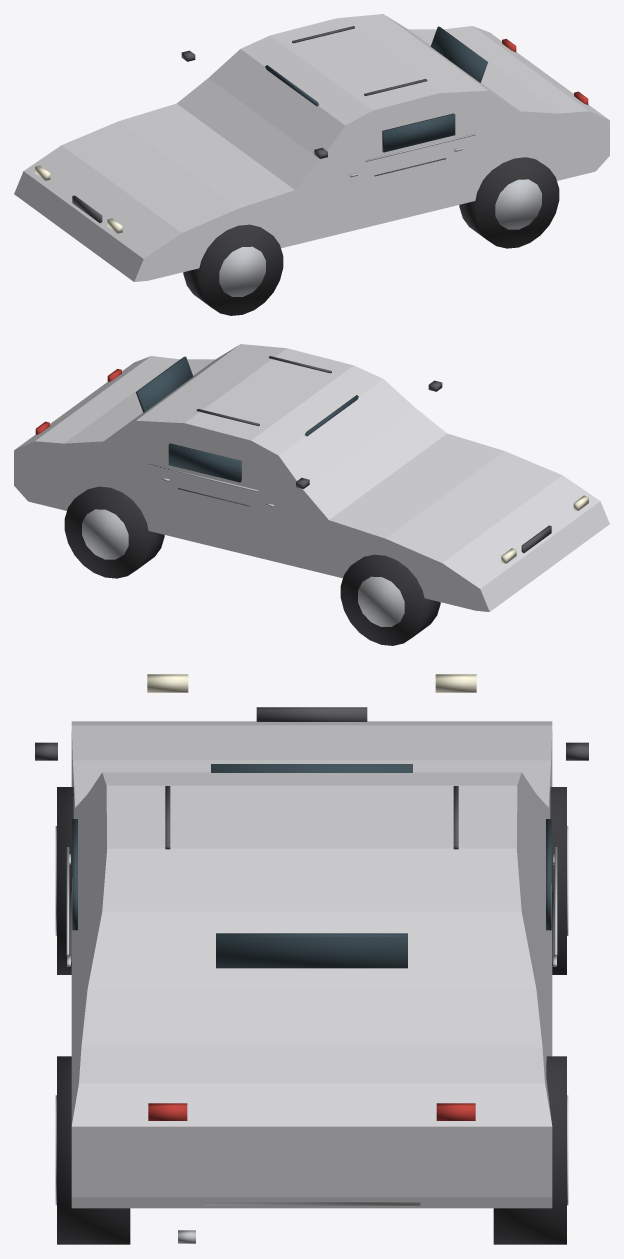
File: police.glb
3 renders of one model, top to bottom at view 1: azimuth 30°, elevation 25°; view 2: azimuth 150°, elevation 25°; view 3: azimuth 270°, elevation 25°, orthographic. The views are drawn at different scales.
Parts seen in each view (by area): view 1: body_main, wheel_rear_r, wheel_front_r, trim_rim__rear_r, trim_rim__front_r, glass_side_r, glass_rear; view 2: body_main, wheel_rear_l, wheel_front_l, trim_rim__rear_l, trim_rim__front_l, glass_side_l, glass_rear; view 3: body_main, glass_rear, wheel_rear_l, wheel_rear_r, wheel_front_l, wheel_front_r, glass_windshield, trim_grille, body_bumper_rear, headlight_l, headlight_r.
Boxes of the visible parts, left/top/right/bottom form: body_main: left=14, top=14, right=609, bottom=281; wheel_rear_r: left=459, top=157, right=559, bottom=248; wheel_front_r: left=183, top=224, right=283, bottom=315; trim_rim__rear_r: left=495, top=179, right=541, bottom=229; trim_rim__front_r: left=219, top=246, right=265, bottom=296; glass_side_r: left=382, top=113, right=455, bottom=152; glass_rear: left=430, top=26, right=487, bottom=82; body_main: left=14, top=344, right=609, bottom=611; wheel_rear_l: left=64, top=486, right=164, bottom=578; wheel_front_l: left=340, top=554, right=440, bottom=645; trim_rim__rear_l: left=82, top=509, right=128, bottom=559; trim_rim__front_l: left=358, top=576, right=404, bottom=626; glass_side_l: left=168, top=443, right=241, bottom=482; glass_rear: left=136, top=356, right=193, bottom=412; body_main: left=71, top=721, right=552, bottom=1208; glass_rear: left=216, top=933, right=407, bottom=968; wheel_rear_l: left=493, top=1056, right=566, bottom=1244; wheel_rear_r: left=57, top=1056, right=130, bottom=1244; wheel_front_l: left=550, top=787, right=566, bottom=974; wheel_front_r: left=57, top=787, right=73, bottom=974; glass_windshield: left=211, top=764, right=412, bottom=772; trim_grille: left=256, top=707, right=367, bottom=721; body_bumper_rear: left=203, top=1202, right=420, bottom=1205; headlight_l: left=435, top=674, right=476, bottom=692; headlight_r: left=147, top=674, right=188, bottom=692.
Bounding box in the file's own units: 4.85 × 1.58 × 2.42.
